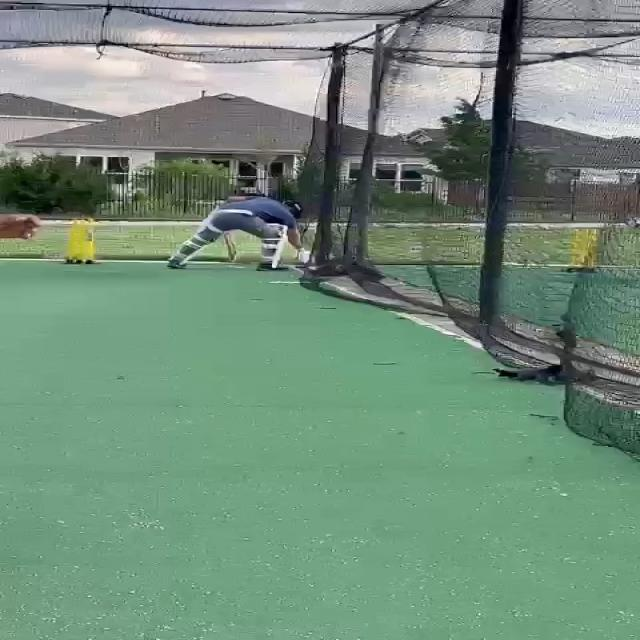batsman: (165, 195, 312, 272)
